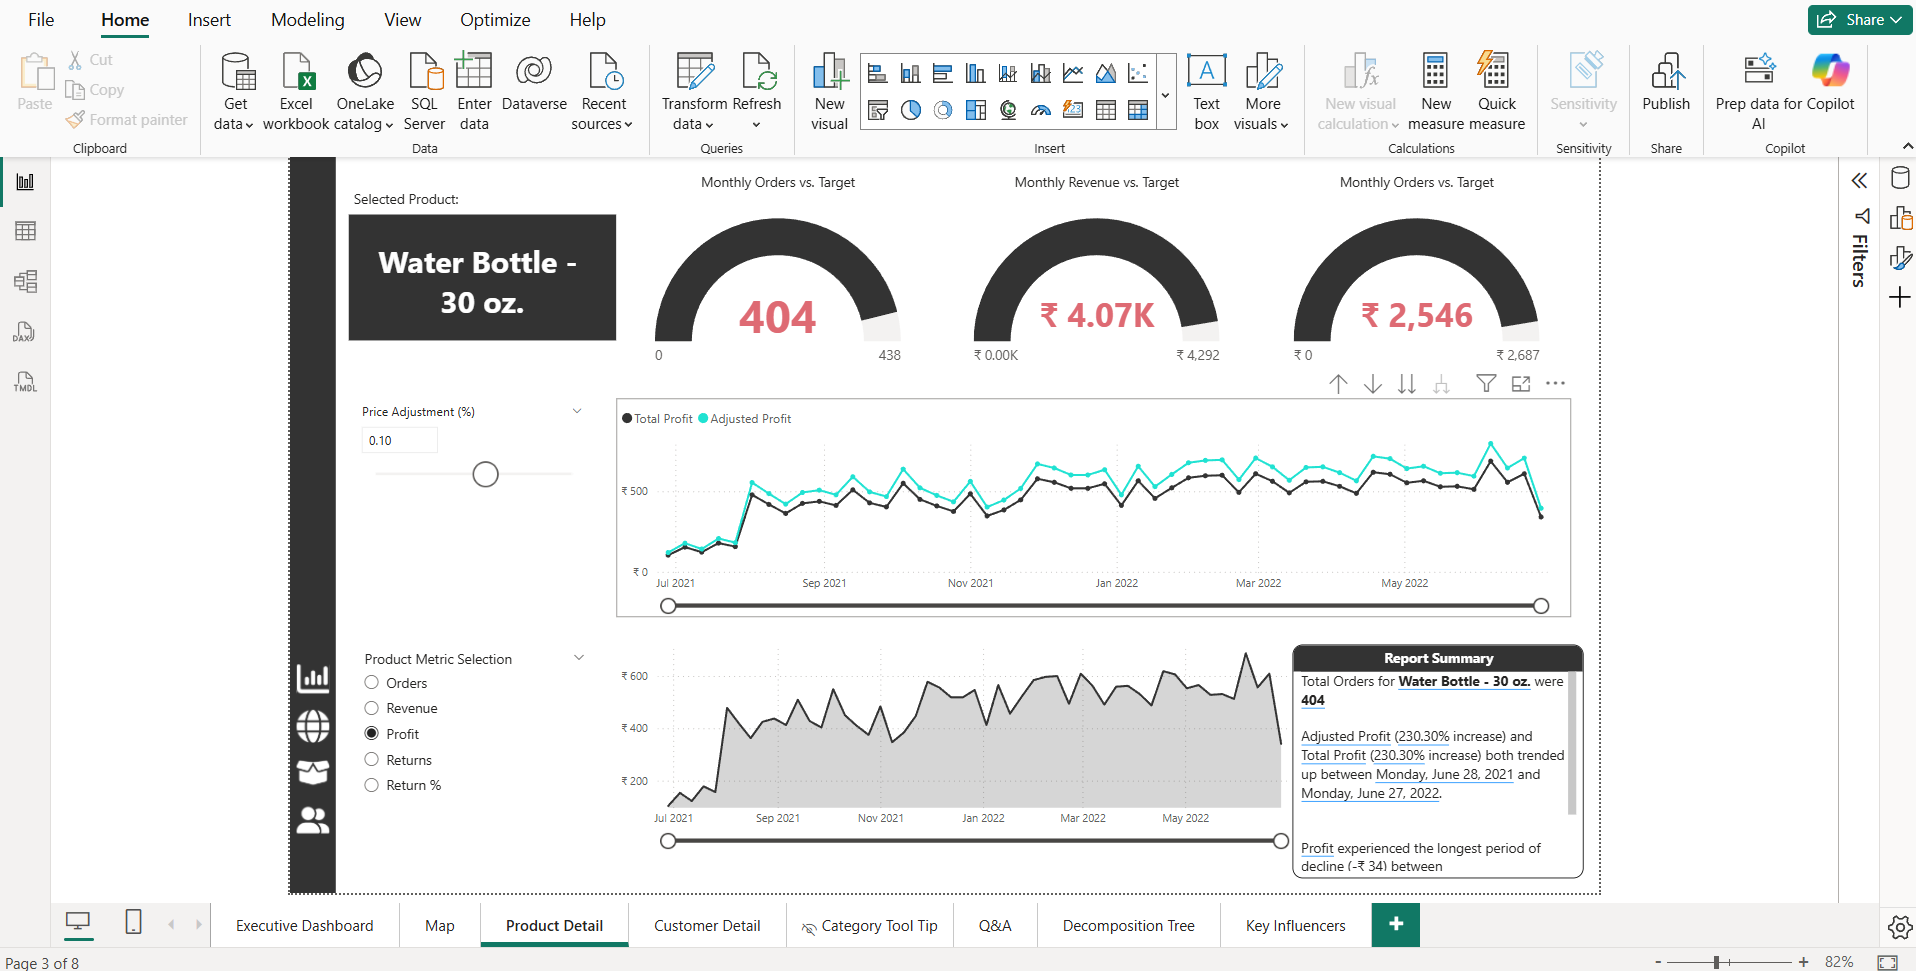

The page's visual inventory and layout, read from the dashboard file:
{"tool":"powerbi","page":{"name":"Product Detail","canvas":[1280,720],"ordinal":2},"visuals":[{"type":"shape","box":[0,0,45,720],"z":0},{"type":"actionButton","box":[2.7,490.2,45.2,40.3],"z":0,"group":"g1"},{"type":"gauge","title":"Monthly Orders vs. Target","fields":{"Y":["Measure Table.Total Orders"],"MaxValue":["Measure Table.Order Target"]},"box":[352.1,14.7,250.6,221.3],"z":1000},{"type":"actionButton","box":[2.7,582.3,45.2,40.3],"z":1000,"group":"g1"},{"type":"gauge","title":"Monthly Revenue vs. Target","fields":{"Y":["Measure Table.Total Revenue"],"MaxValue":["Measure Table.Revenue Target"]},"box":[664.4,14.7,250.6,221.3],"z":2000},{"type":"actionButton","box":[2.7,628.3,45.2,40.3],"z":2000,"group":"g1"},{"type":"gauge","title":"Monthly Orders vs. Target","fields":{"Y":["Measure Table.Total Profit"],"MaxValue":["Measure Table.Profit Target"]},"box":[976.7,14.7,250.6,221.3],"z":3000},{"type":"actionButton","box":[2.7,536.2,45.2,40.3],"z":3000,"group":"g1"},{"type":"lineChart","title":"Profit Trending","fields":{"Category":["Calendar Lookup.Date Hierarchy.Start of Year","Calendar Lookup.Date Hierarchy.Start of Month","Calendar Lookup.Date Hierarchy.Start of Week","Calendar Lookup.Date Hierarchy.Date"],"Y":["Measure Table.Total Profit","Measure Table.Adjusted Profit"]},"box":[319,235.9,933.9,213.9],"z":4000},{"type":"areaChart","title":"Returns Trending","fields":{"Y":["Measure Table.Total Profit"],"Category":["Calendar Lookup.Date Hierarchy.Start of Year","Calendar Lookup.Date Hierarchy.Start of Month","Calendar Lookup.Date Hierarchy.Start of Week","Calendar Lookup.Date Hierarchy.Date"]},"box":[319,468.2,679.7,211.5],"z":5000},{"type":"card","fields":{"Values":["Min(Product Lookup.ProductName)"]},"box":[57.5,56.2,261.6,123.5],"z":6000},{"type":"textbox","box":[57.5,26.9,123.5,41.6],"z":7000},{"type":"group","id":"g1","title":"Navigation Buttons","box":[2.7,490.2,45.2,178.5],"z":8000},{"type":"slicer","fields":{"Values":["Price Adjustment (%).Price Adjustment (%)"]},"box":[57.5,235.9,240.8,124.7],"z":9000},{"type":"slicer","fields":{"Values":["Product Metric Selection.Product Metric Selection"]},"box":[59.9,476.7,240.8,172.4],"z":10000},{"type":"textbox","title":"Report Summary","box":[980.4,476.7,284.8,228.6],"z":11000}]}

Visuals, with their boxes on the page's 1280x720 design canvas (x1, y1, x2, y2). These are canvas units, not pixel positions in the 1916x971 screenshot, which may show the page scaled, cropped or inside an application window:
shape: {"left": 0, "top": 0, "right": 45, "bottom": 720}
actionButton: {"left": 3, "top": 490, "right": 48, "bottom": 530}
"Monthly Orders vs. Target" gauge: {"left": 352, "top": 15, "right": 603, "bottom": 236}
actionButton: {"left": 3, "top": 582, "right": 48, "bottom": 623}
"Monthly Revenue vs. Target" gauge: {"left": 664, "top": 15, "right": 915, "bottom": 236}
actionButton: {"left": 3, "top": 628, "right": 48, "bottom": 669}
"Monthly Orders vs. Target" gauge: {"left": 977, "top": 15, "right": 1227, "bottom": 236}
actionButton: {"left": 3, "top": 536, "right": 48, "bottom": 576}
"Profit Trending" lineChart: {"left": 319, "top": 236, "right": 1253, "bottom": 450}
"Returns Trending" areaChart: {"left": 319, "top": 468, "right": 999, "bottom": 680}
card - Min(Product Lookup.ProductName): {"left": 58, "top": 56, "right": 319, "bottom": 180}
textbox: {"left": 58, "top": 27, "right": 181, "bottom": 68}
"Navigation Buttons" group: {"left": 3, "top": 490, "right": 48, "bottom": 669}
slicer - Price Adjustment (%).Price Adjustment (%): {"left": 58, "top": 236, "right": 298, "bottom": 361}
slicer - Product Metric Selection.Product Metric Selection: {"left": 60, "top": 477, "right": 301, "bottom": 649}
"Report Summary" textbox: {"left": 980, "top": 477, "right": 1265, "bottom": 705}
